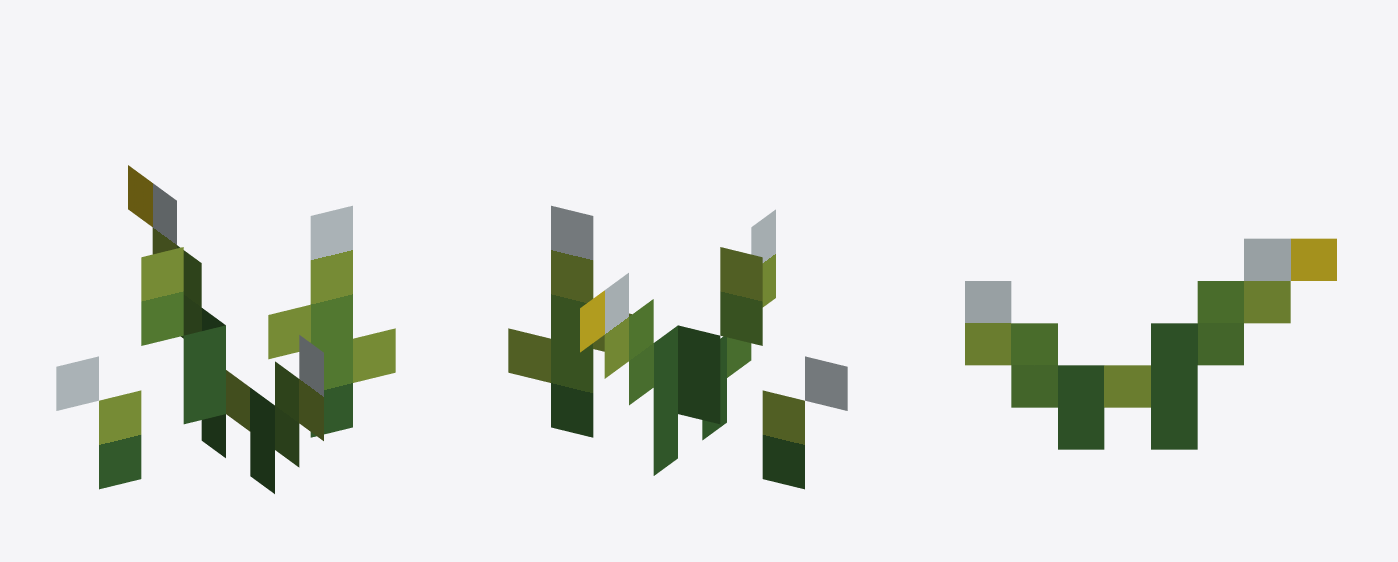
File: LilySprout.fbx
3 renders of one model, left to right at view 1: azimuth 30°, elevation 25°; view 2: azimuth 150°, elevation 25°; view 3: azimuth 270°, elevation 25°, orthographic. The views are drawn at different scales.
Visible parts, largest first — view 1: plane; view 2: plane; view 3: plane.
Boxes of the visible parts, box(x1,y1,x2,y2) form: plane: box(56, 165, 395, 493); plane: box(508, 205, 847, 489); plane: box(965, 238, 1336, 449).
Size of the model in its own units: 62.5 by 50 by 62.5.
1 material, 1 textured.
